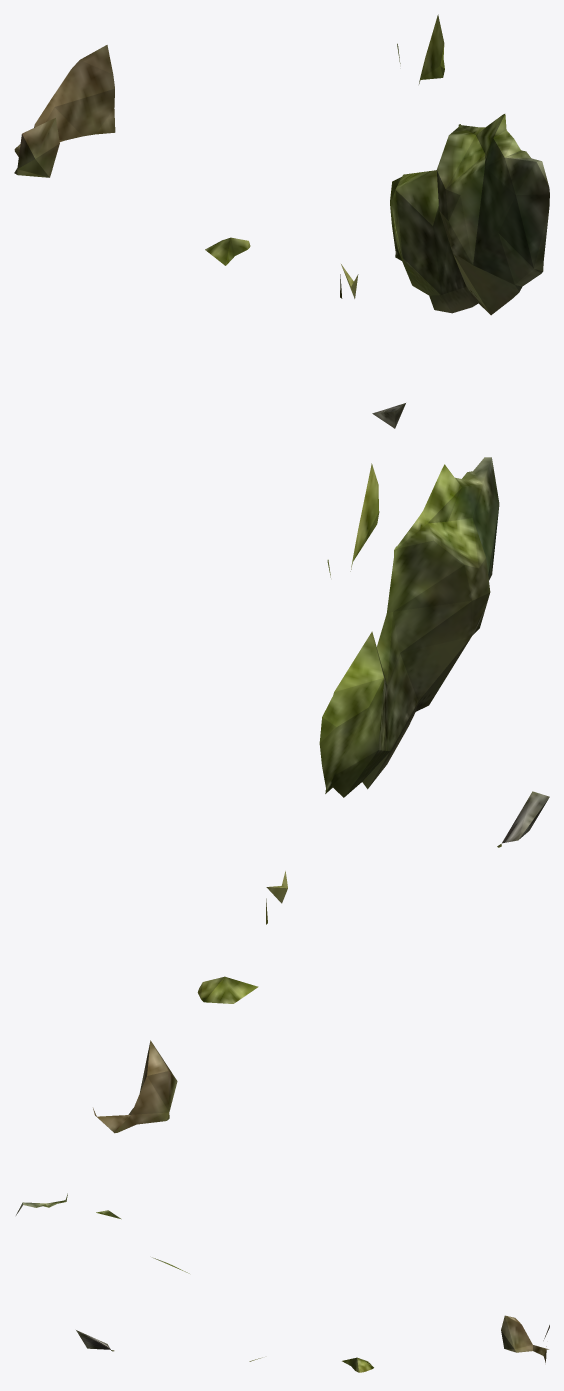
3 renders of one model, top to bottom at view 1: azimuth 30°, elevation 25°; view 2: azimuth 150°, elevation 25°; view 3: azimuth 270°, elevation 25°, orthographic. The views are drawn at different scales.
Bounding box in the file's own units: 0.8479 × 2.45 × 5.54.
1 material, 1 textured.
